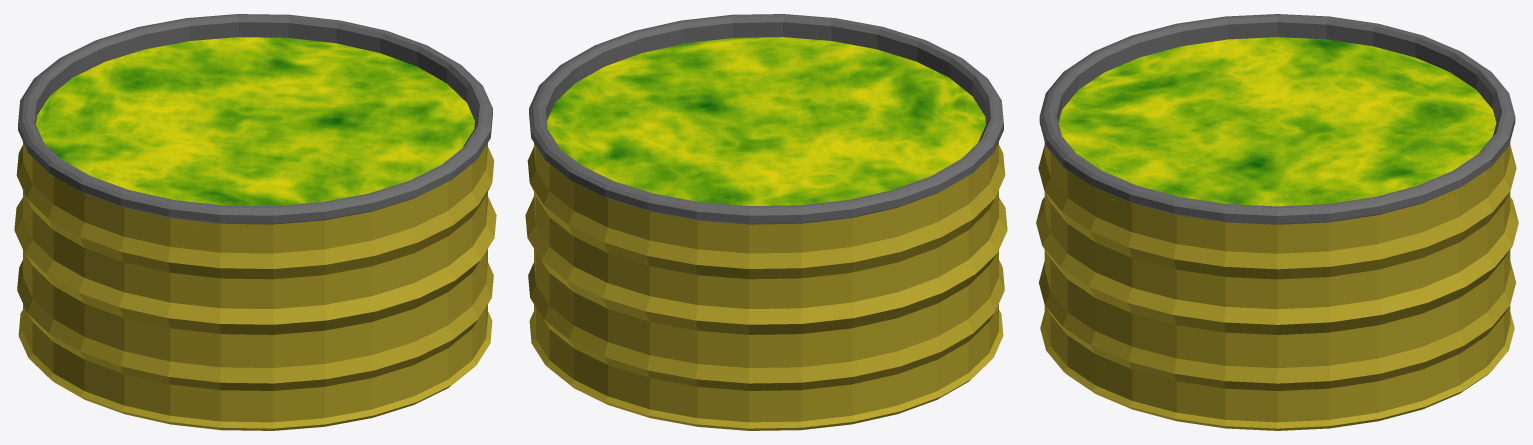
File: AcidTrap.fbx
3 renders of one model, left to right at view 1: azimuth 30°, elevation 25°; view 2: azimuth 150°, elevation 25°; view 3: azimuth 270°, elevation 25°, orthographic.
Visible parts, largest first — view 1: Cylinder, Cube.001; view 2: Cylinder, Cube.001; view 3: Cylinder, Cube.001.
Boxes of the visible parts, box(x1,y1,x2,y2) form: Cylinder: box(14, 14, 496, 430); Cube.001: box(36, 37, 480, 225); Cylinder: box(525, 14, 1007, 430); Cube.001: box(541, 37, 985, 225); Cylinder: box(1036, 14, 1518, 430); Cube.001: box(1058, 37, 1496, 206).
Size of the model in its own units: 300 by 151 by 300.
